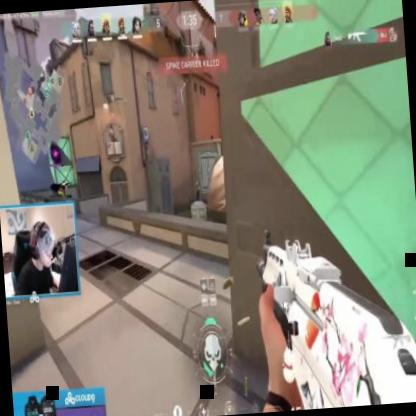enemy: (194, 180, 202, 204)
enemy_head: (196, 181, 198, 187)
